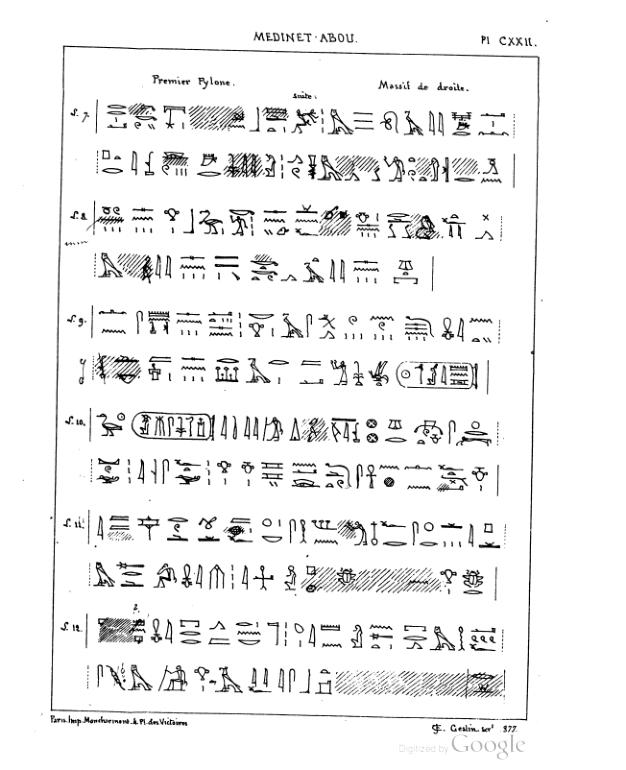circle: (395, 357, 483, 397), (129, 408, 219, 446)
